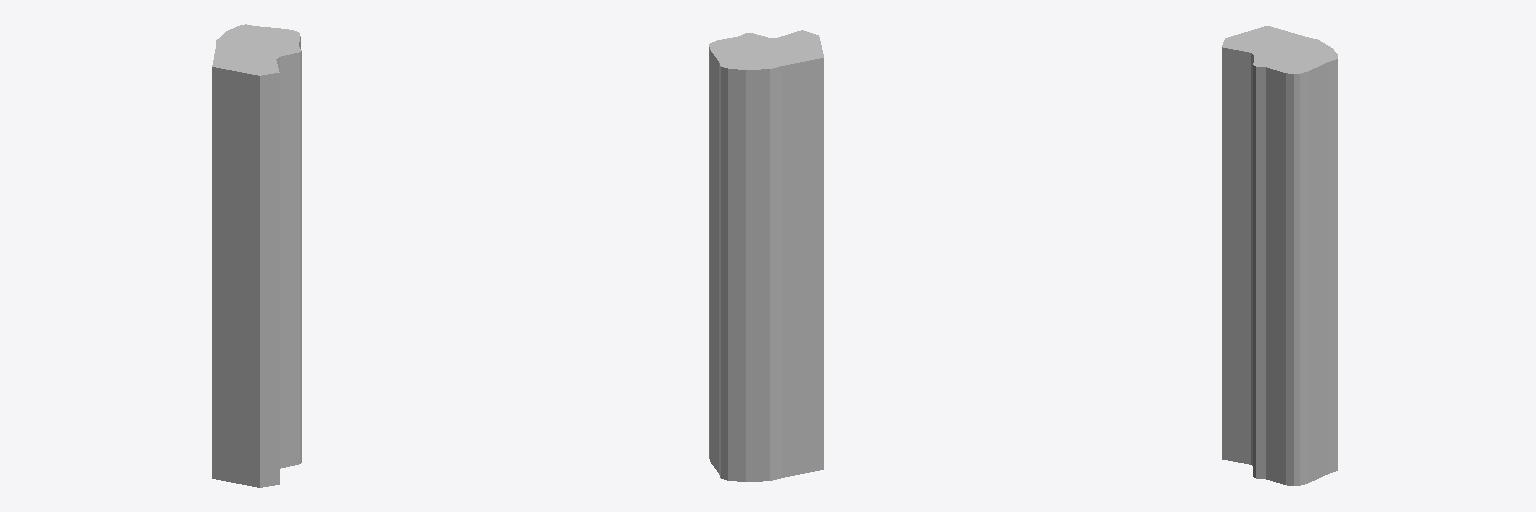
3 renders of one model, left to right at view 1: azimuth 30°, elevation 25°; view 2: azimuth 150°, elevation 25°; view 3: azimuth 270°, elevation 25°, orthographic.
Parts seen in each view (by area): view 1: LS.002_CUCurve.1880; view 2: LS.002_CUCurve.1880; view 3: LS.002_CUCurve.1880.
Boxes of the visible parts, <box> form: LS.002_CUCurve.1880: <box>212,24,301,487</box>; LS.002_CUCurve.1880: <box>709,30,823,481</box>; LS.002_CUCurve.1880: <box>1222,26,1337,485</box>.
Bounding box in the file's own units: 0.0127 × 0.05 × 0.0128.